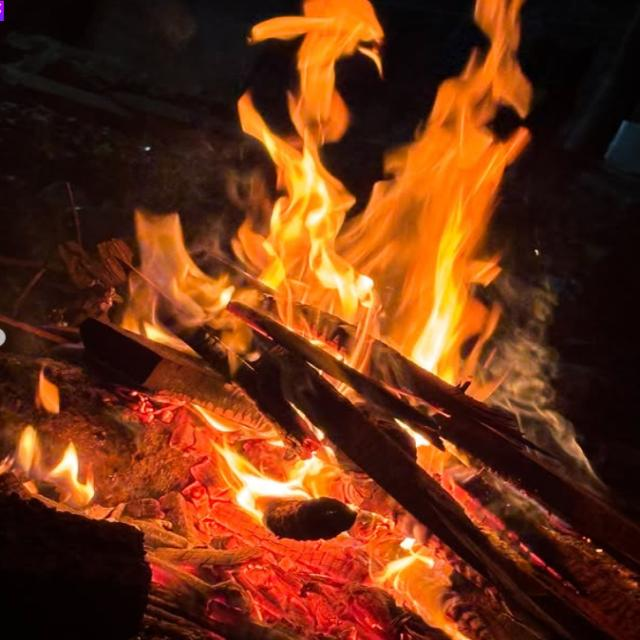fire: (0, 209, 640, 640), (238, 0, 531, 402)
